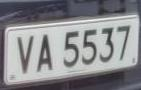3: (99, 24, 117, 69)
5: (62, 27, 82, 76), (80, 26, 99, 73)
7: (114, 24, 133, 63)
A: (36, 31, 57, 78)
V: (16, 32, 36, 78)
